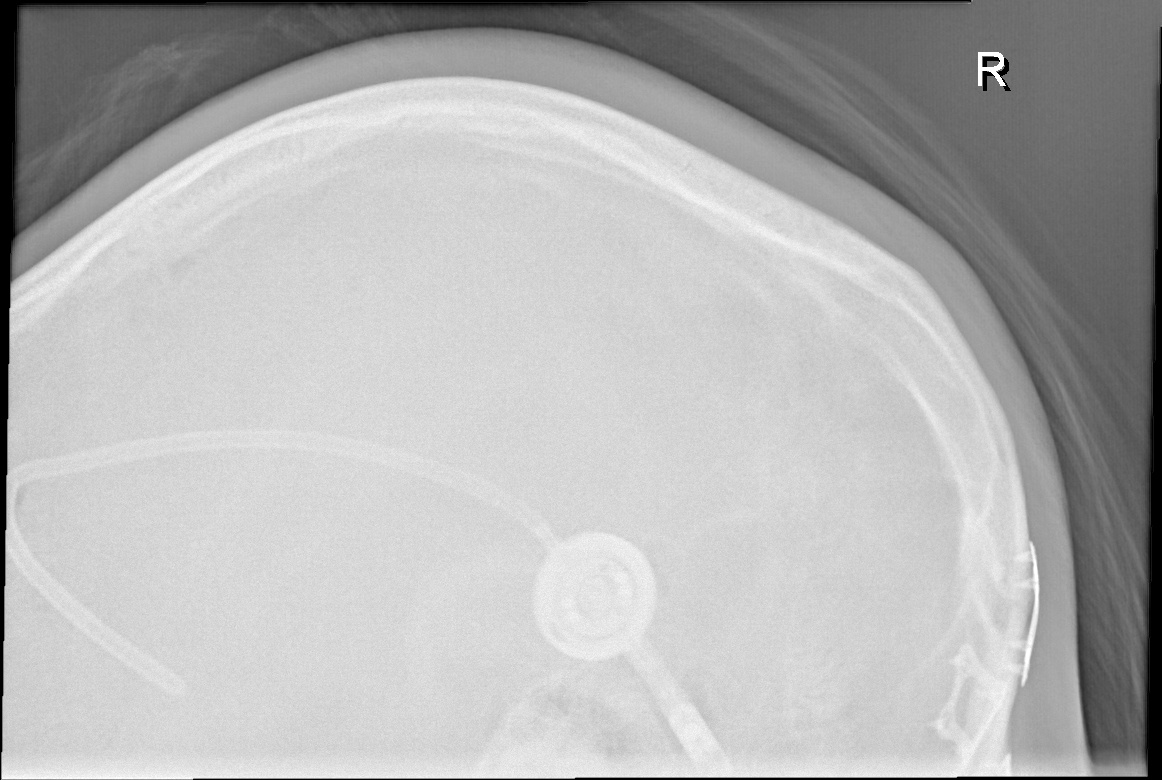proGAV 2.0: (523, 526, 665, 662)
proGAV Gravitationseinheit: (652, 687, 745, 778)
